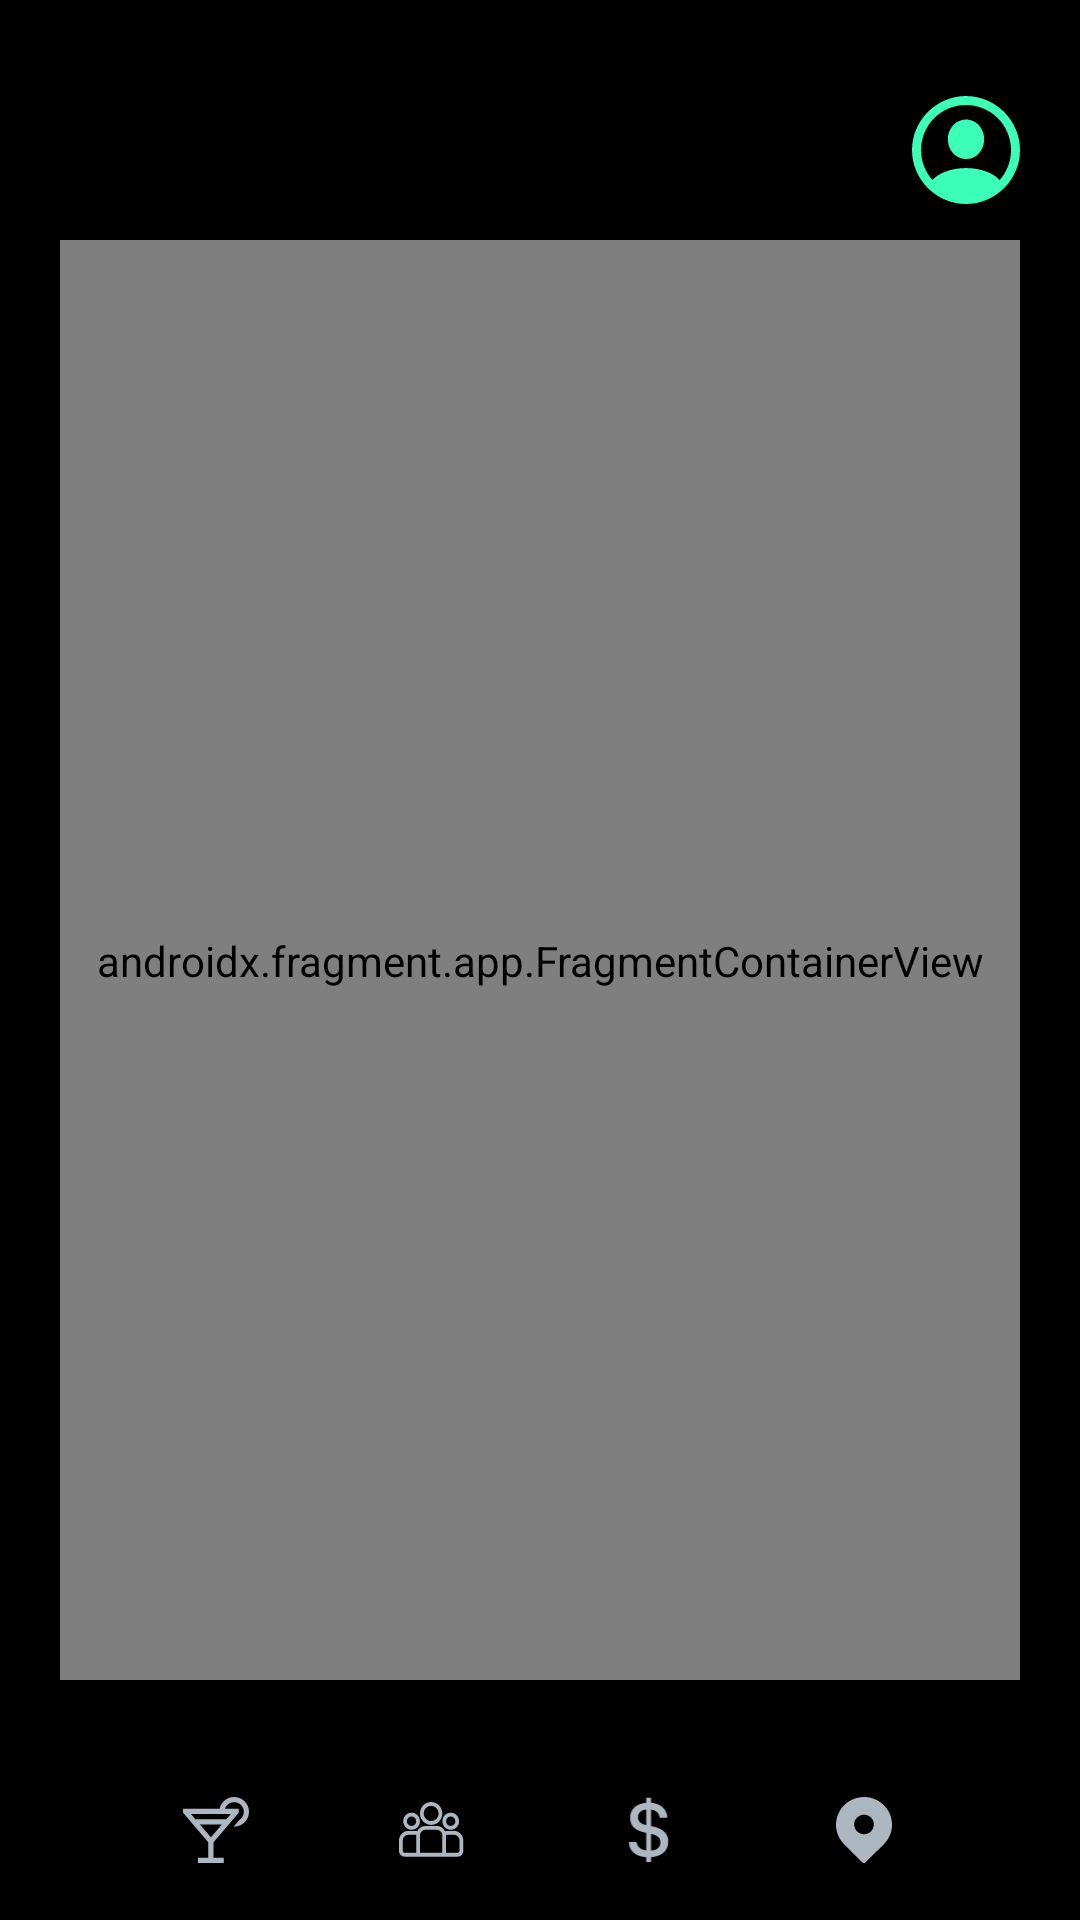

Icon bounding boxes for this 1080 × 1920 phone screenshot, format (x1, y1, x2, y2):
profile: (912, 96, 1020, 204)
